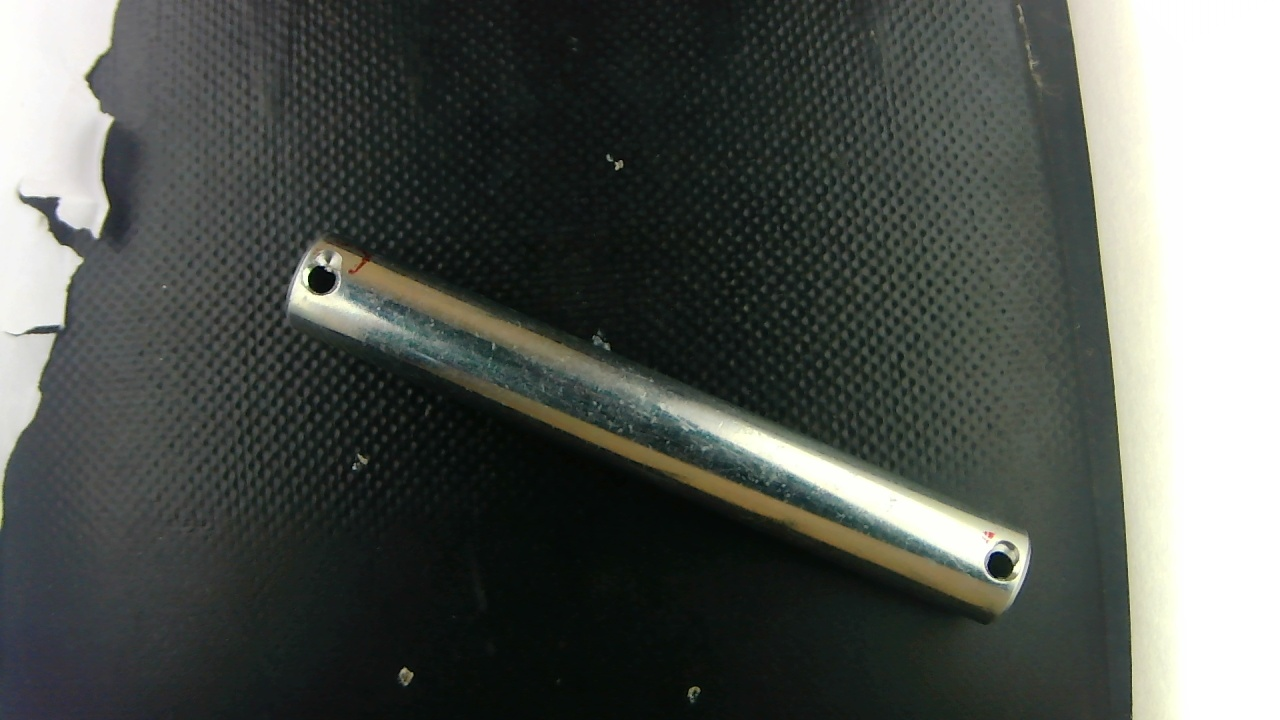drill touch_pin: (979, 534, 1033, 575)
